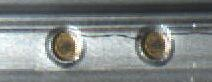joints: (44, 24, 86, 67), (134, 24, 174, 67)
